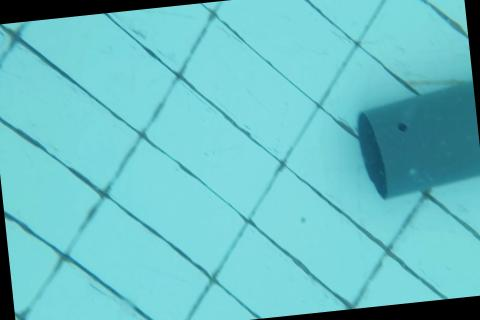kebocoran: (397, 120, 408, 133)
